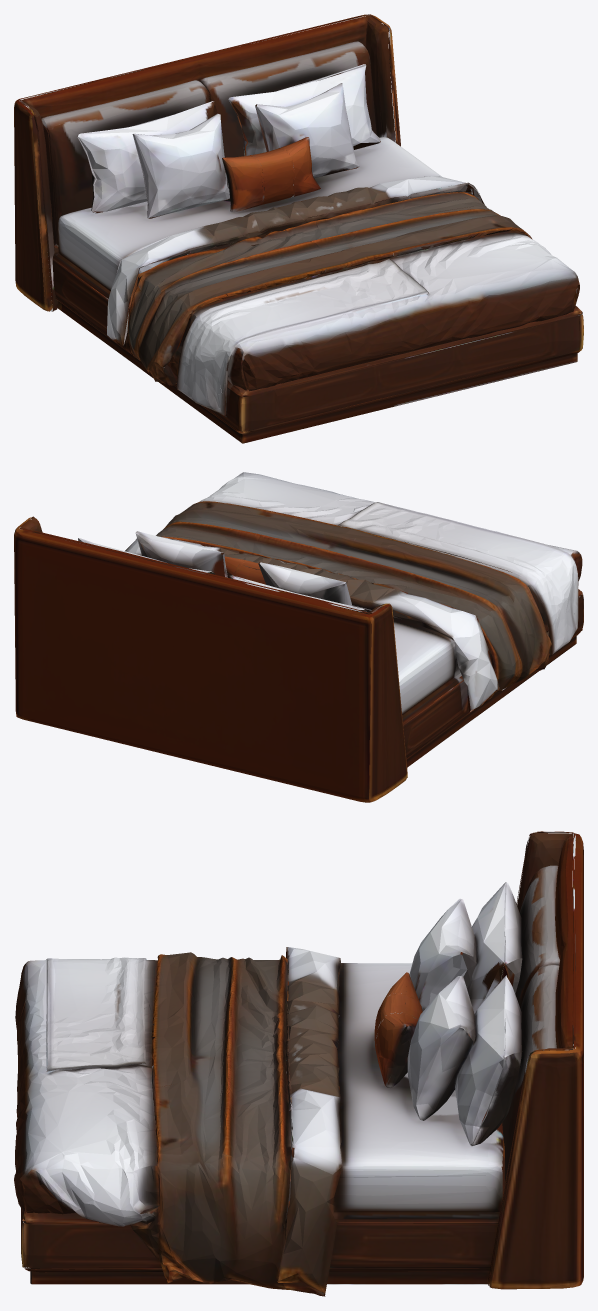
The model's file is edited_mesh.glb.
3 views of the same model, one above another, from view 1: azimuth 30°, elevation 25°; view 2: azimuth 150°, elevation 25°; view 3: azimuth 270°, elevation 25° (orthographic). The views are drawn at different scales.
Visible parts, largest first — view 1: solid_001_wire; view 2: solid_001_wire; view 3: solid_001_wire.
Boxes of the visible parts, x1,y1,x2,y2 form: solid_001_wire: (14,14,583,443); solid_001_wire: (14,472,583,802); solid_001_wire: (14,831,583,1296).
Size of the model in its own units: 2 by 0.9449 by 1.97.
1 material, 1 textured.
